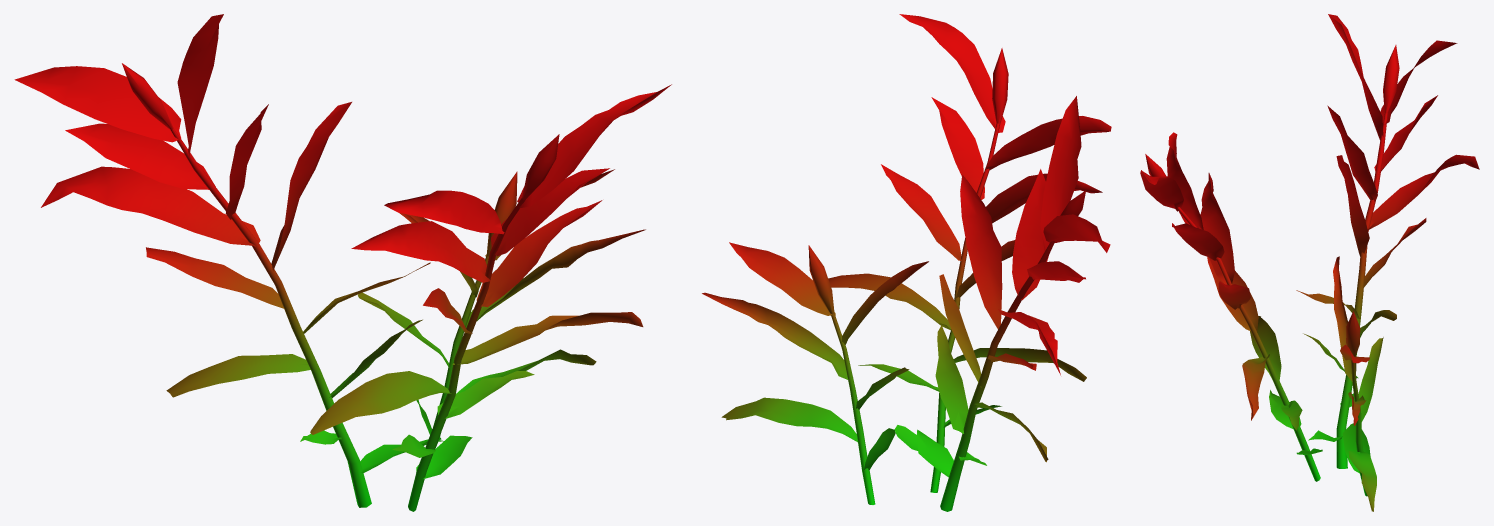
The model's file is Var7_LOD0.fbx.
The picture shows the model from 3 angles, left to right: view 1: azimuth 30°, elevation 25°; view 2: azimuth 150°, elevation 25°; view 3: azimuth 270°, elevation 25°; orthographic projection. The views are drawn at different scales.
Visible parts, largest first — view 1: _4053_Var7_LOD0; view 2: _4053_Var7_LOD0; view 3: _4053_Var7_LOD0.
Boxes of the visible parts, box(x1,y1,x2,y2) form: _4053_Var7_LOD0: box(14, 14, 671, 511); _4053_Var7_LOD0: box(702, 14, 1111, 511); _4053_Var7_LOD0: box(1140, 14, 1479, 511).
Bounding box in the file's own units: 78.96 × 71.67 × 55.02.
